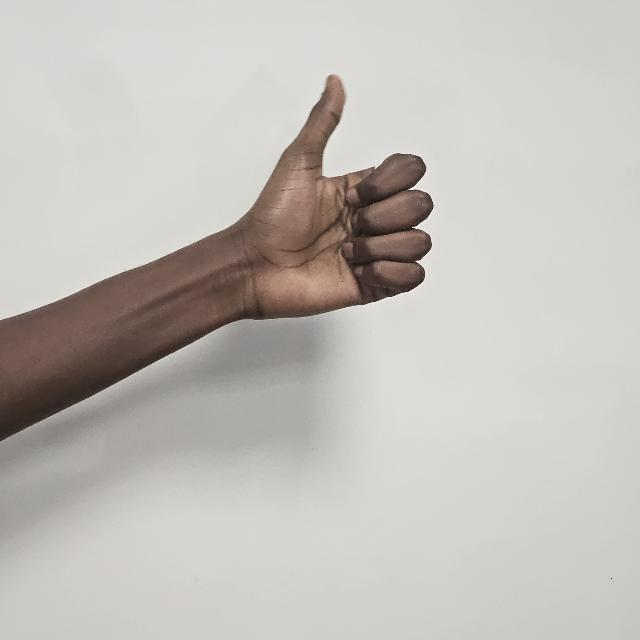Start: (251, 68, 434, 340)
